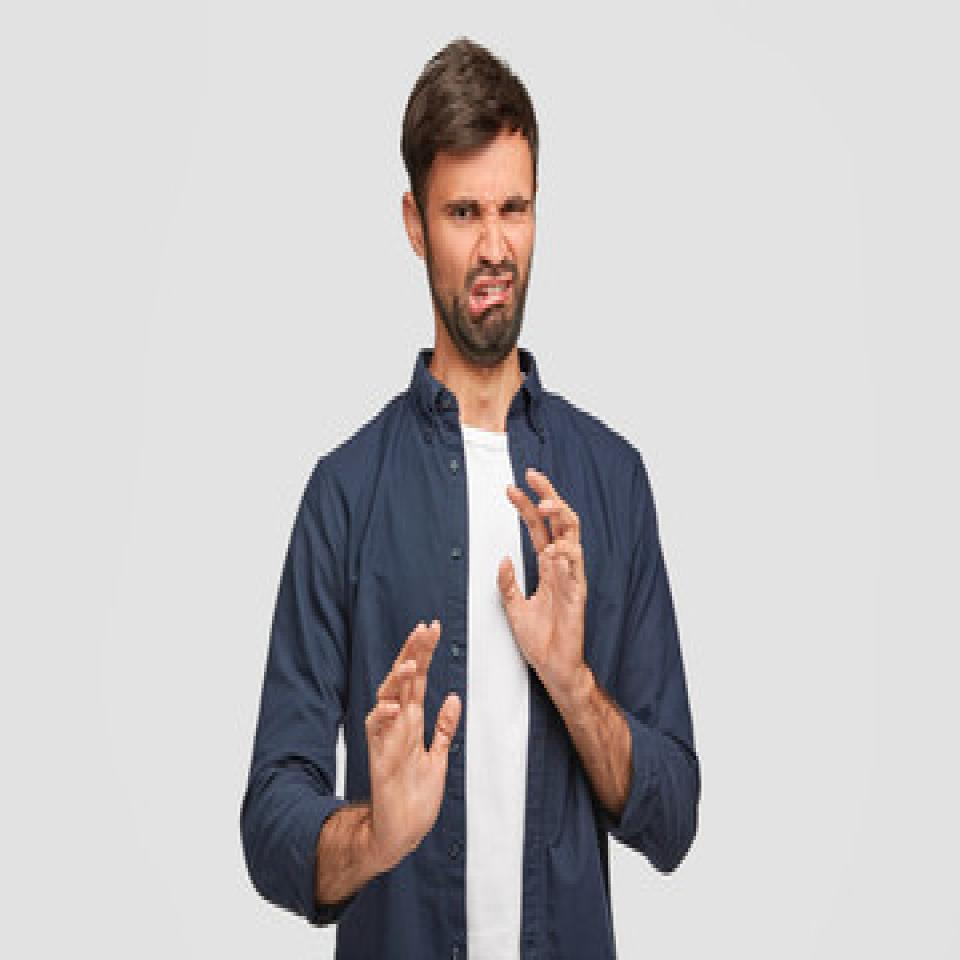Disgust: (419, 142, 539, 364)
